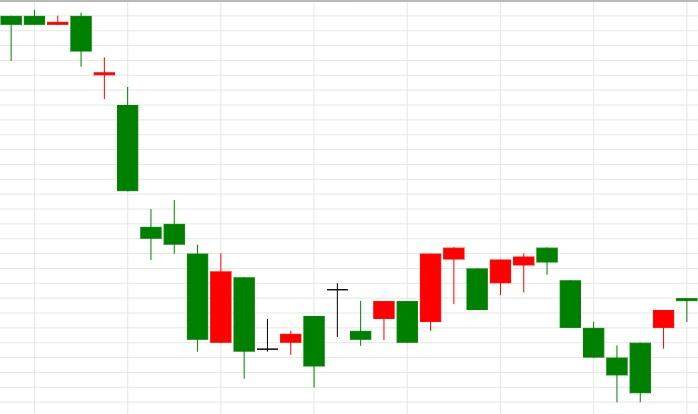evening_star_fall: (350, 247, 488, 346)
